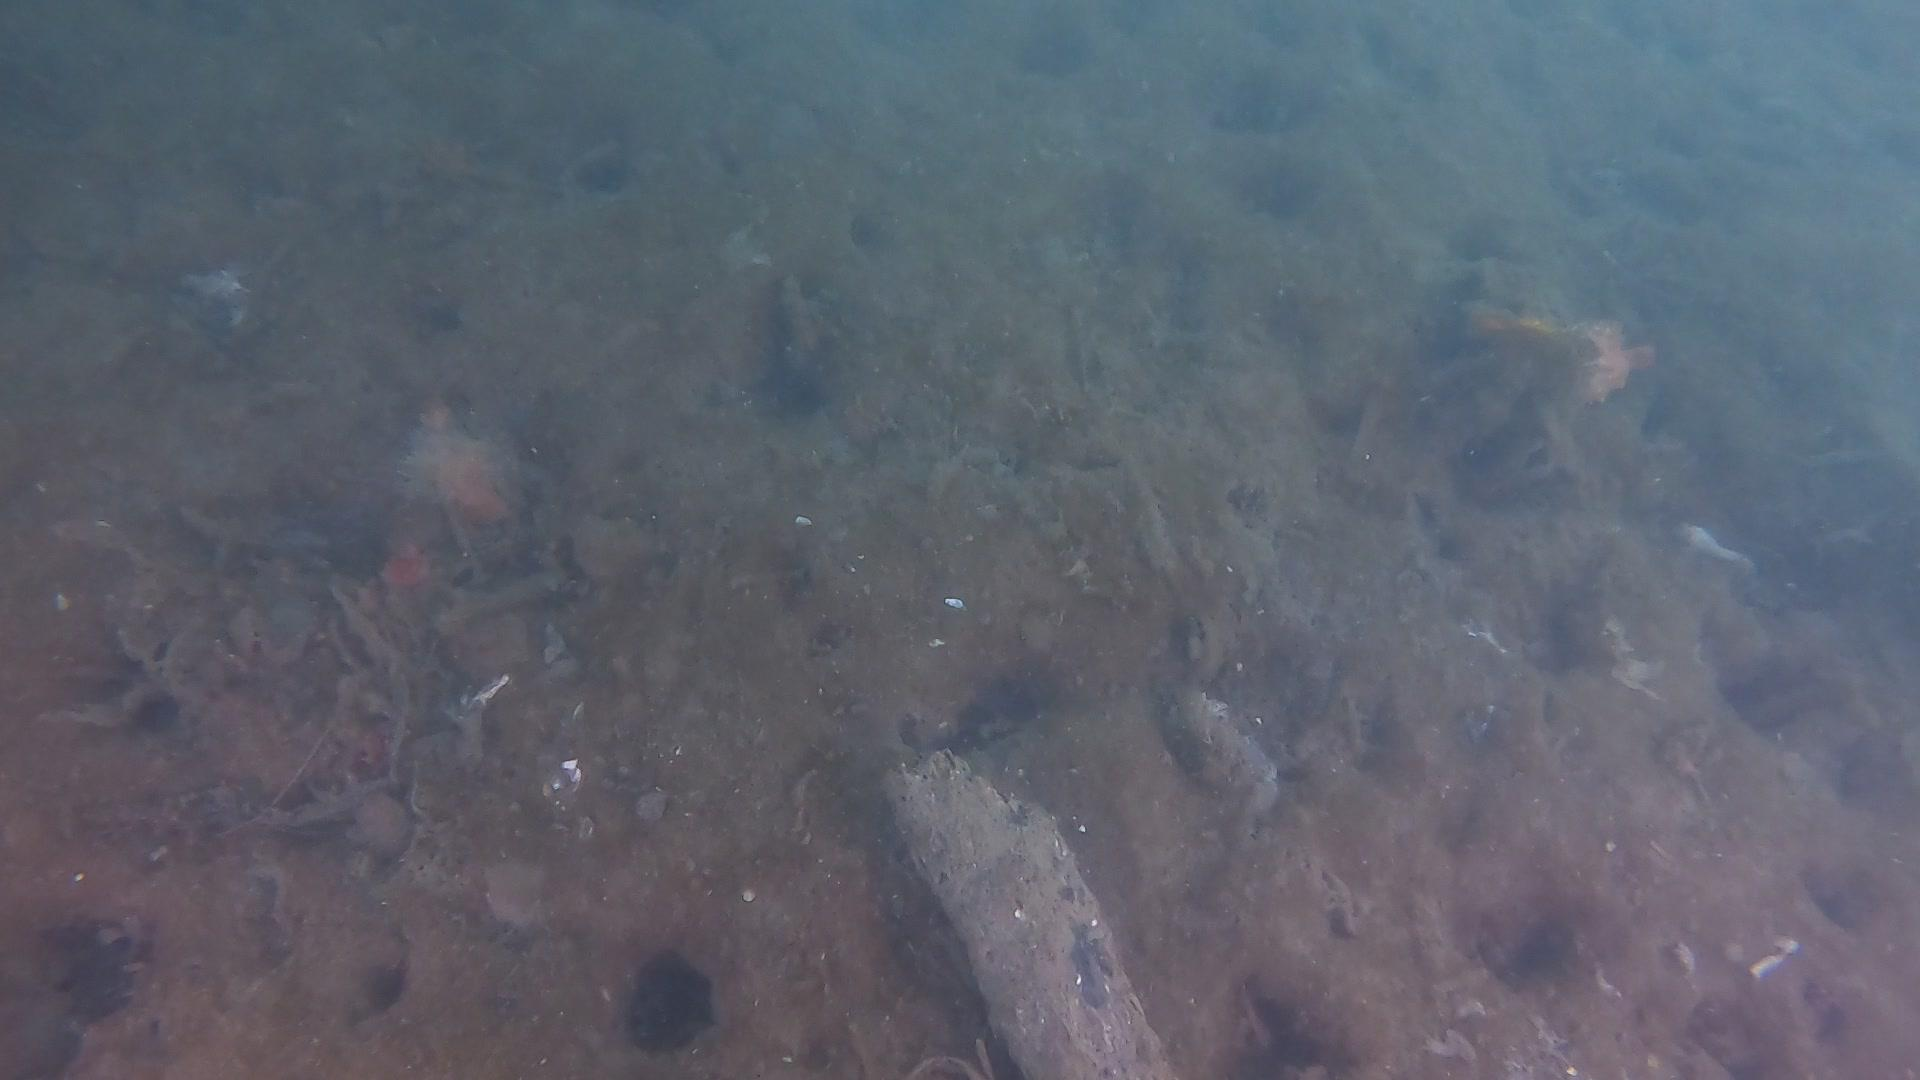wood: (880, 742, 1185, 1080)
